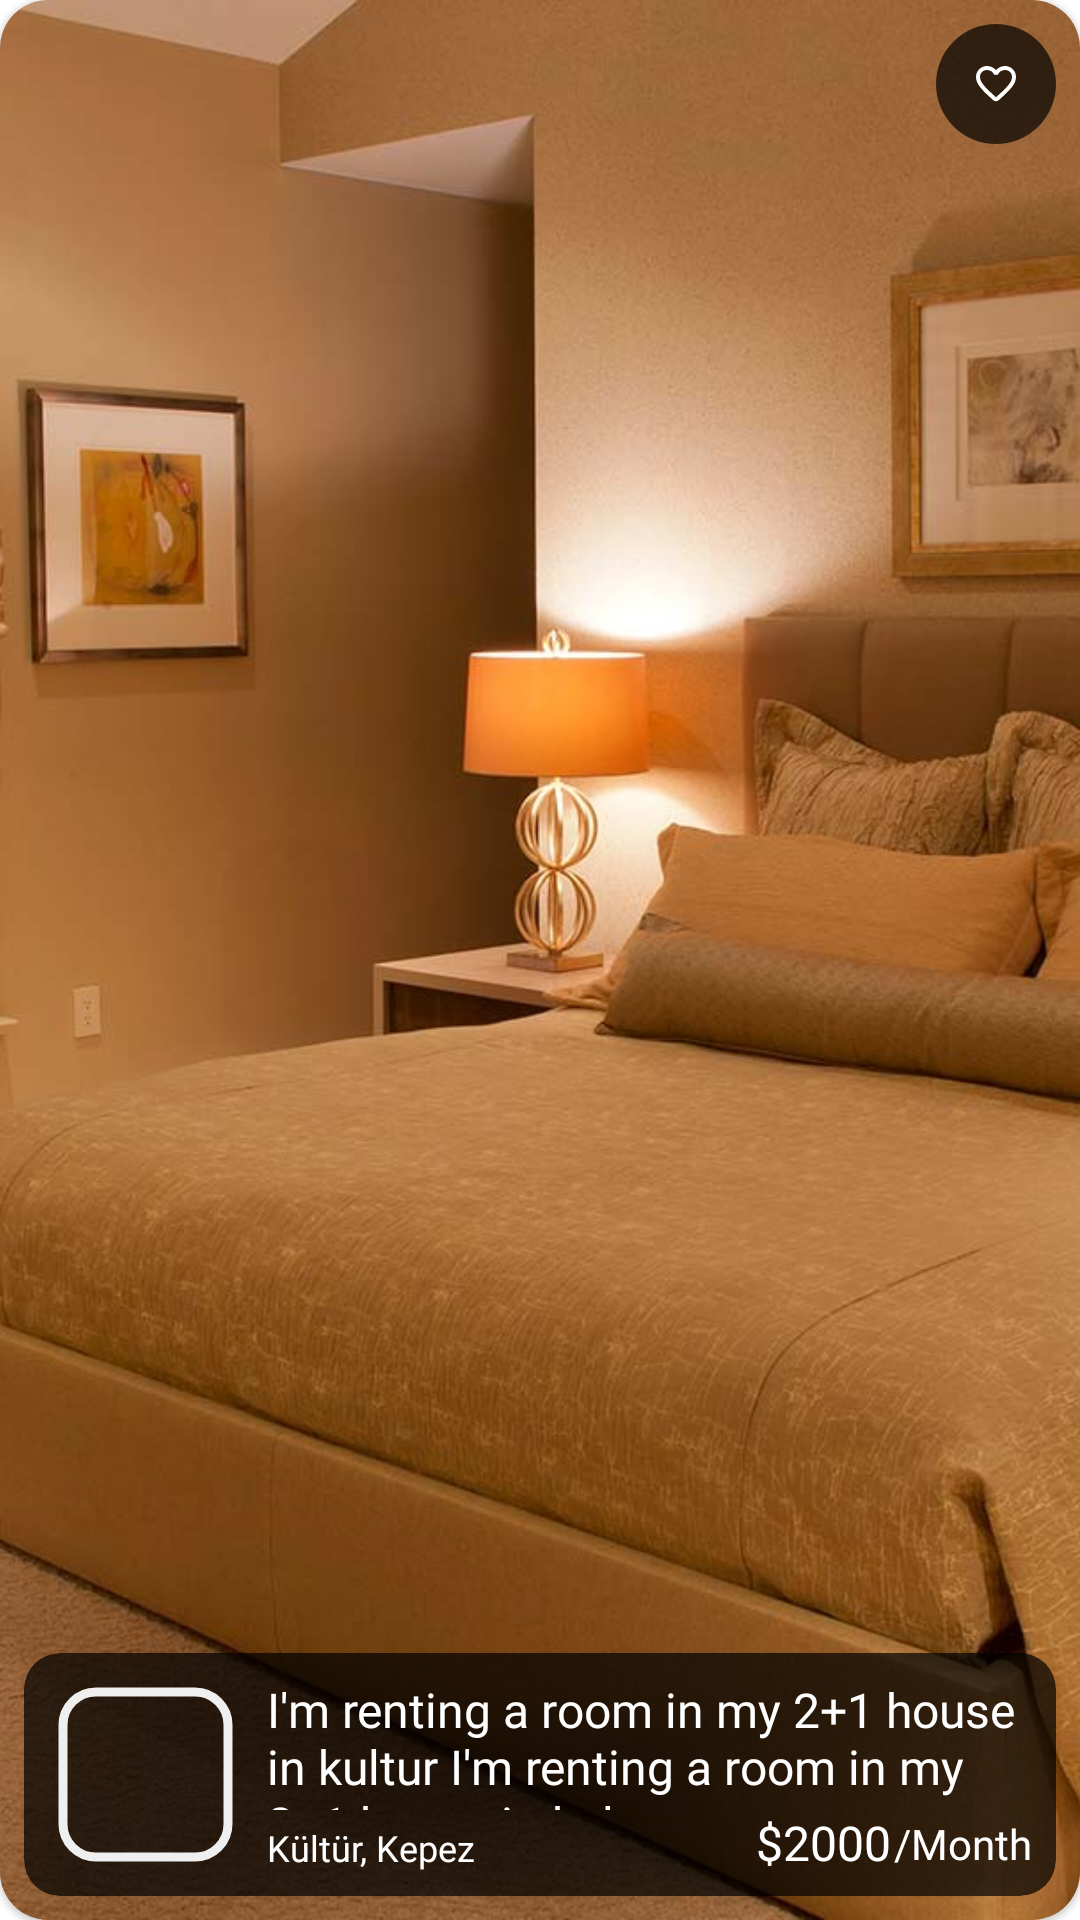

Icons on this 1080*1920 Android screen, each with its box as BBox(x1, y1, x2, y2):
favorite border: BBox(936, 24, 1056, 144)
